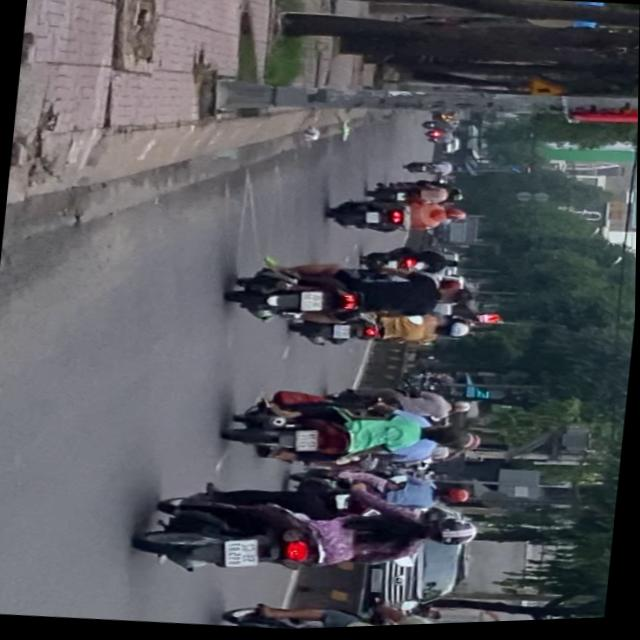helmet: (426, 519, 481, 552), (439, 489, 473, 509), (456, 433, 484, 456)
licenseplate: (132, 470, 487, 600), (222, 380, 489, 486), (225, 249, 479, 341), (214, 590, 509, 634)
motorcyclist: (416, 425, 461, 450), (440, 289, 475, 311)
nohelmet: (225, 539, 262, 570), (297, 431, 321, 454), (301, 292, 325, 314)
